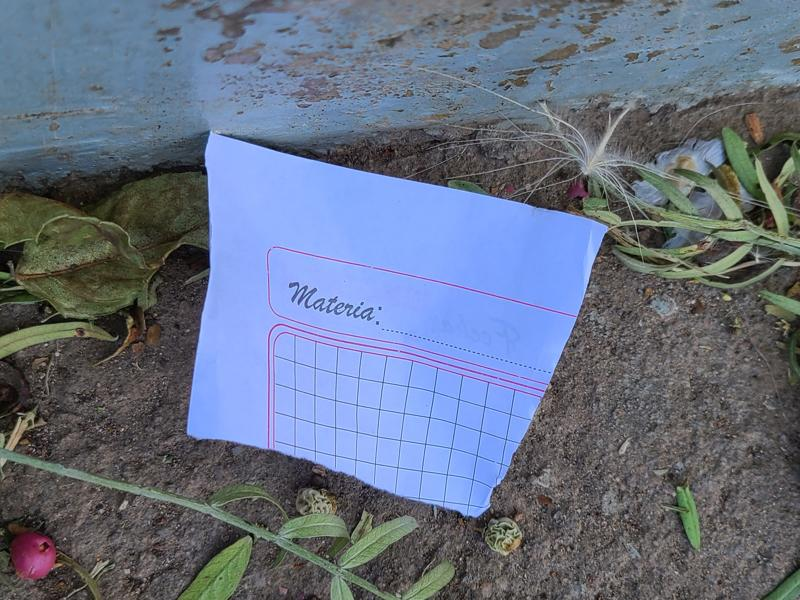papel: (186, 134, 608, 519)
